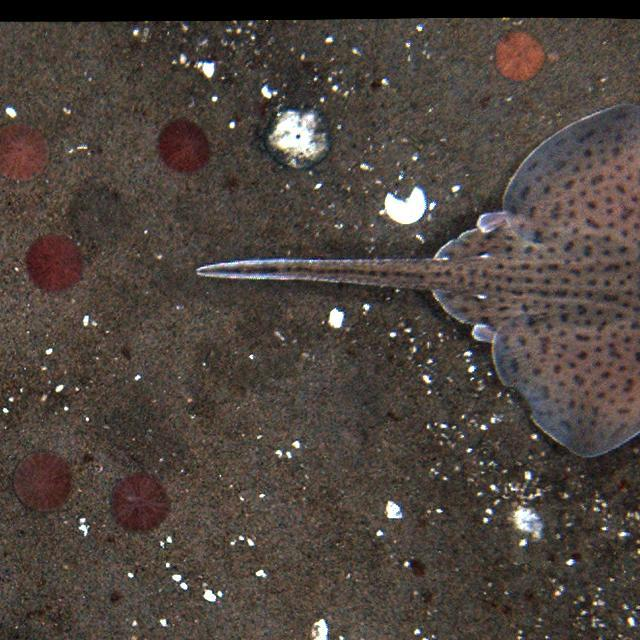skate: (194, 101, 640, 461)
